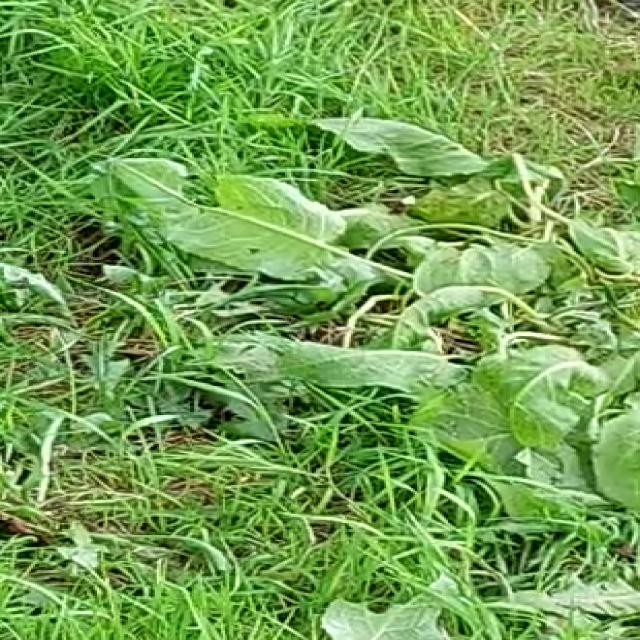organic waste: (122, 87, 640, 570)
